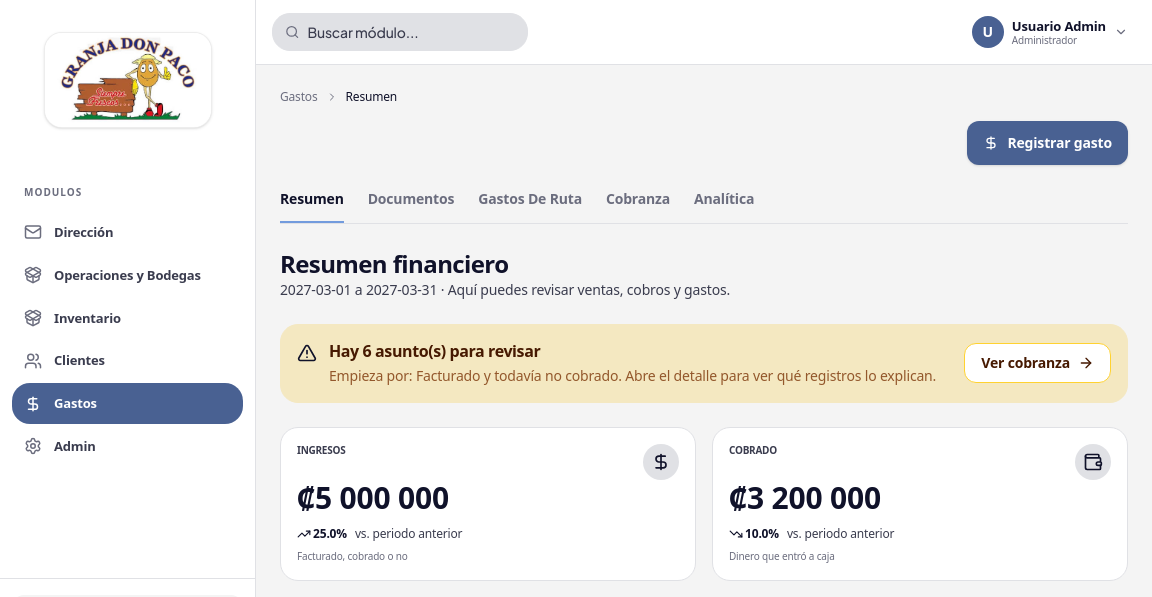
Test: Resumen › la bandeja Requiere atención avisa de la cartera vencida
The image size is (1152, 597).
Step 1. Click the button "Gastos" below "Modulos" → (128, 404), box x1=12 y1=383 x2=243 y2=424
(page scrolled)
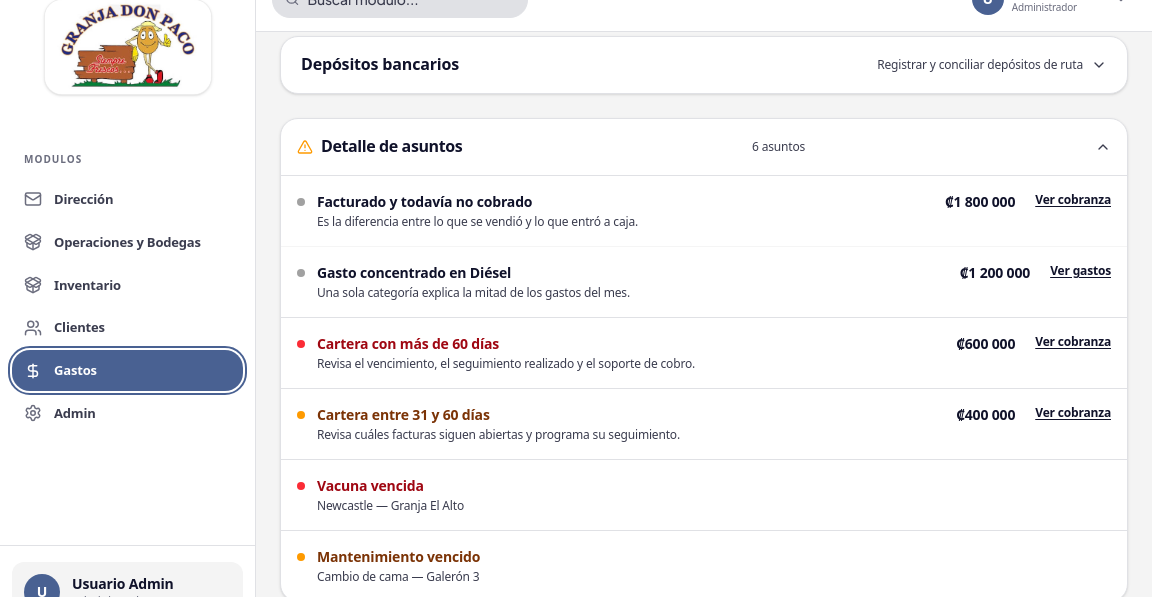
Expected: the element with test id "finanzas-requiere-atencion" shows "Detalle de asuntos", x1=321 y1=135 x2=462 y2=157
Expected: the element with test id "finanzas-requiere-atencion" shows "Cartera con más de 60 días", x1=317 y1=334 x2=499 y2=353
